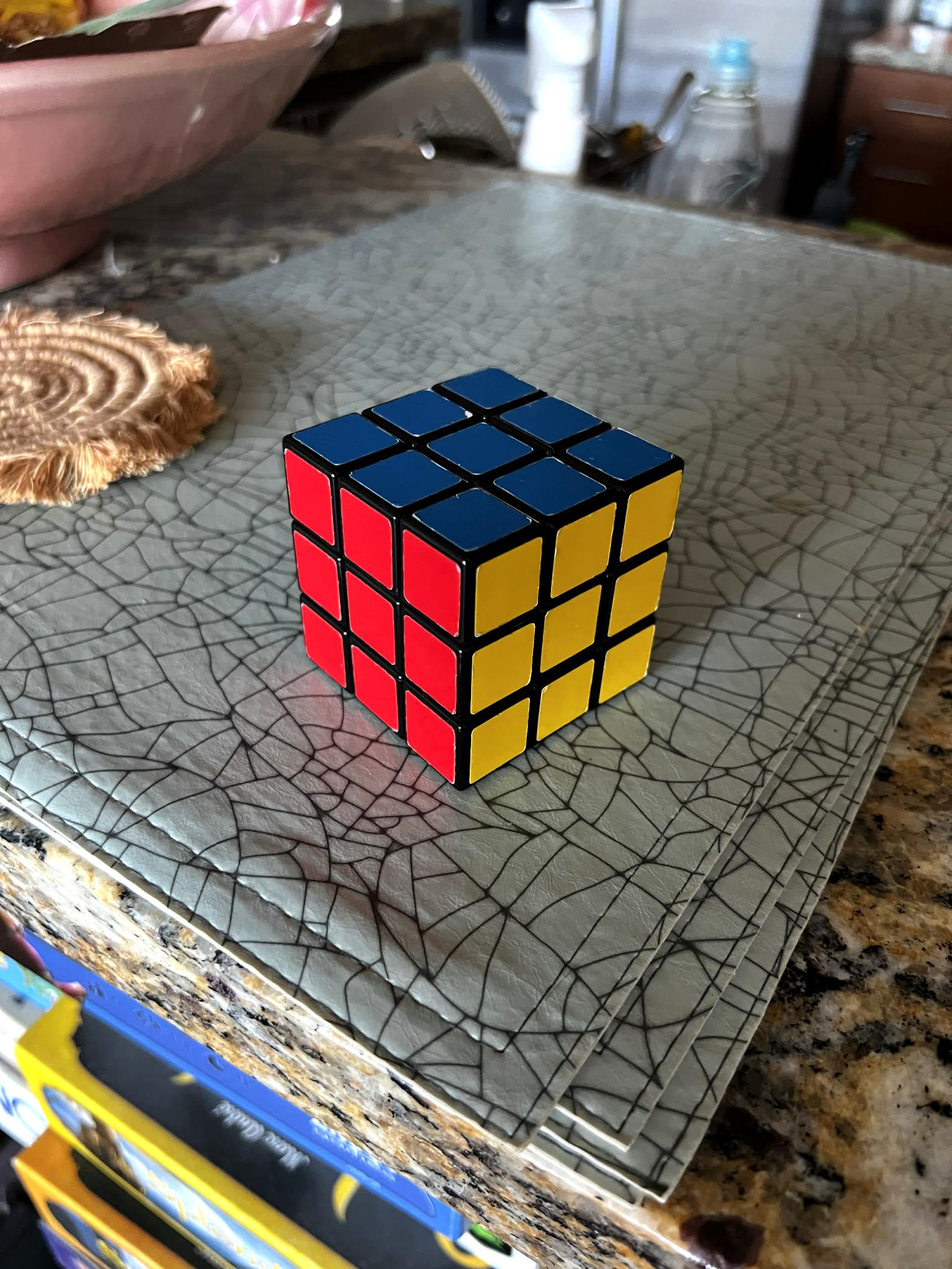rubiks_cube: (285, 367, 682, 783)
